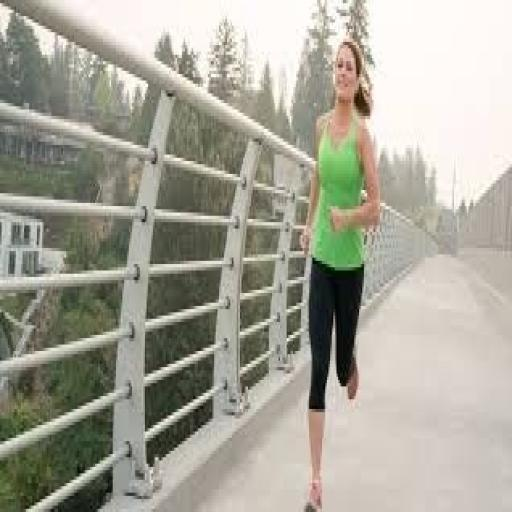running: (298, 35, 383, 509)
